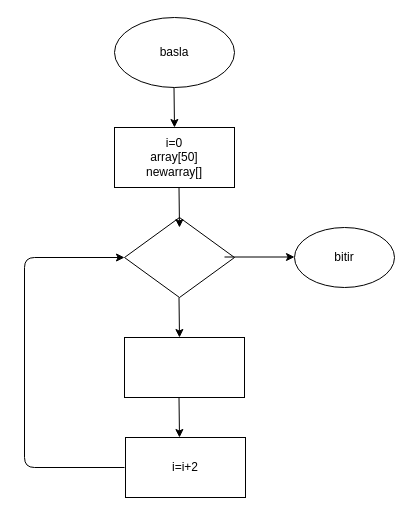
Image size: 412x515. Some labels were removed from this diagram. The shapes that lost their labels are listed below. From the top down, each one's centre as x and y in pixels, then its label:
At (x=179, y=257): "i>50".
At (x=184, y=367): "newarray[i]=(array[i]+array[i+1])/2".
